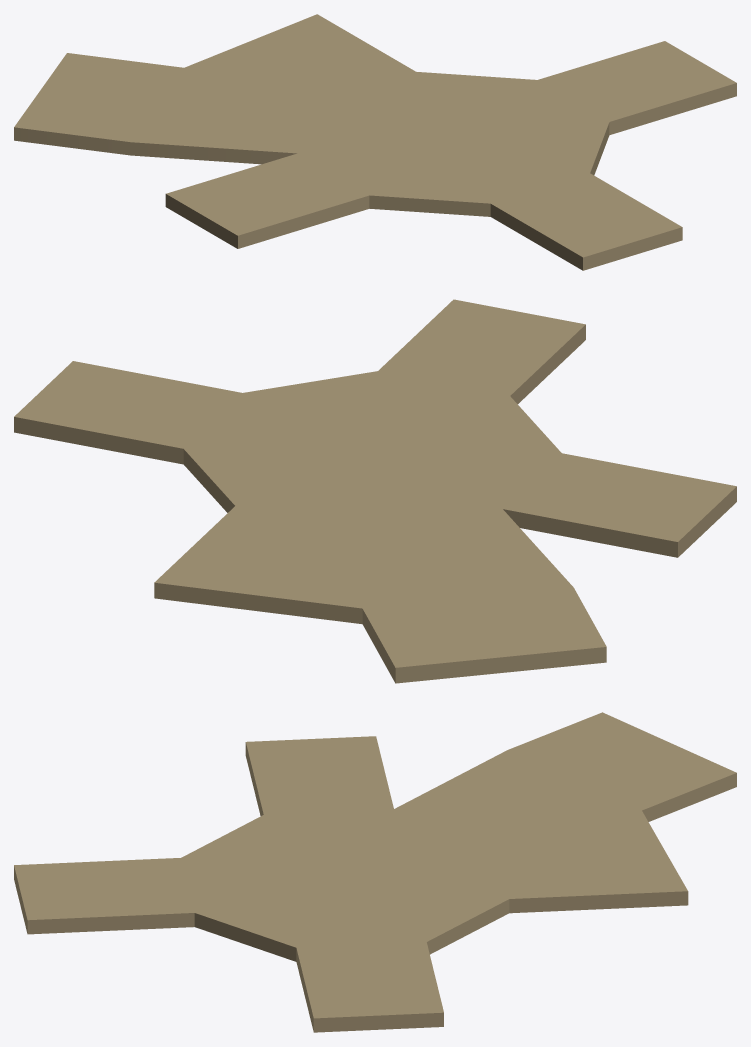
Rendered from Gluttony_SpillTwo.fbx.
3 views of the same model, one above another, from view 1: azimuth 30°, elevation 25°; view 2: azimuth 150°, elevation 25°; view 3: azimuth 270°, elevation 25° (orthographic). The views are drawn at different scales.
Visible parts, largest first — view 1: Spill1; view 2: Spill1; view 3: Spill1.
Boxes of the visible parts, <box> form: Spill1: <box>14,14,736,270</box>; Spill1: <box>14,299,736,683</box>; Spill1: <box>14,712,736,1032</box>.
Size of the model in its own units: 0.9099 by 0.0197 by 0.9082.
